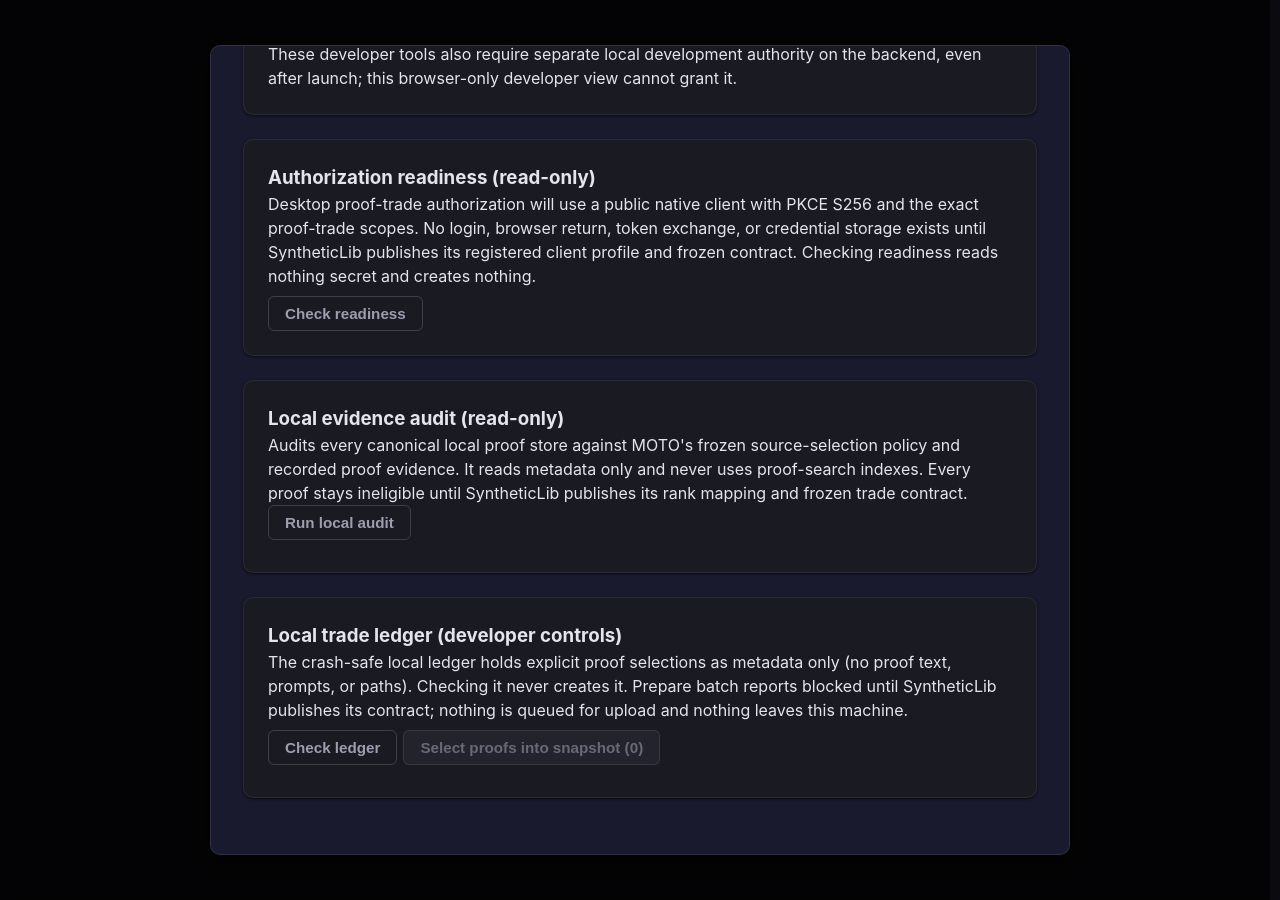
Test: SyntheticLib4DeveloperWorkspace › runs one audit on request and renders metadata-only results
(page scrolled)
What coordinates should you click on to do the following:
click the button "Run local audit"
I would click on:
 (339, 522)
Its box is 268,505 -> 411,540.
(page scrolled)
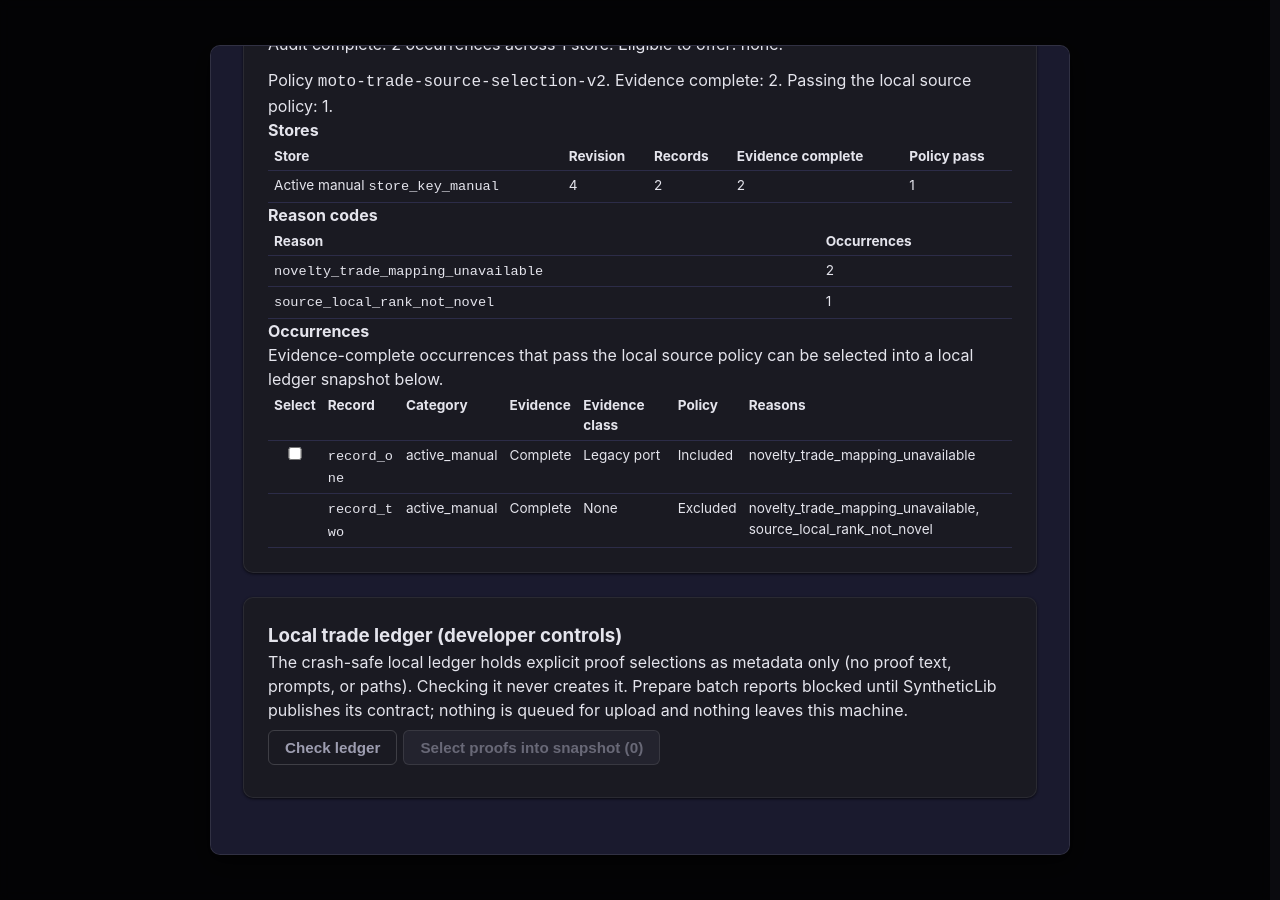
Expected: the table named "canonical proof stores" is shown, 268,142 -> 1012,203
Expected: the table named "reason code counts" shows "source_local_rank_not_novel", 274,296 -> 494,310
Expected: the table named "proof occurrence diagnostics" shows "Excluded", 678,500 -> 737,516
